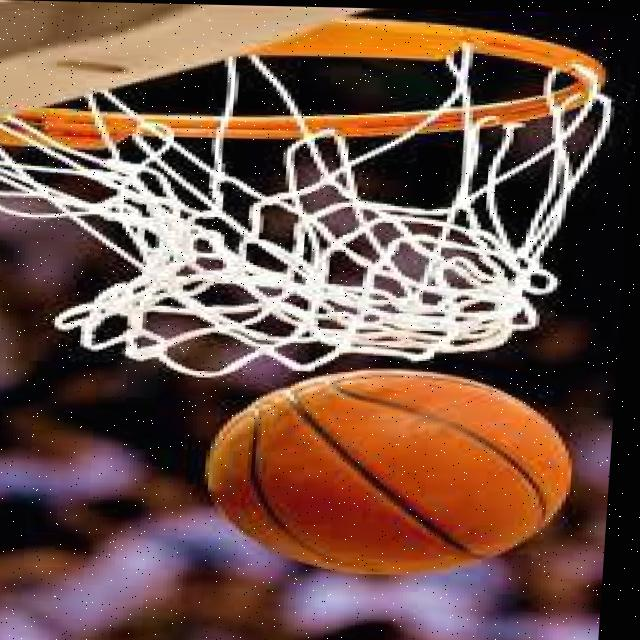basketball: (202, 365, 578, 579)
hoop: (0, 9, 639, 372)
